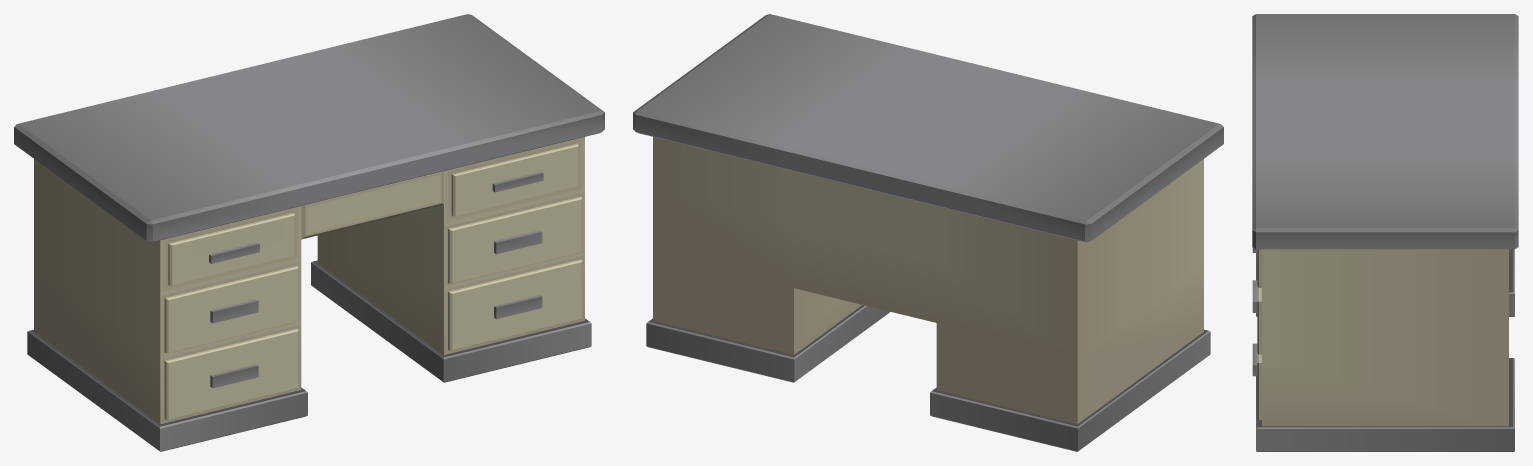
The model's file is Laboratorio.fbx_MesaLaboratorio.fbx.
3 renders of one model, left to right at view 1: azimuth 30°, elevation 25°; view 2: azimuth 150°, elevation 25°; view 3: azimuth 270°, elevation 25°, orthographic. The views are drawn at different scales.
Parts seen in each view (by area): view 1: MesaLaboratorio; view 2: MesaLaboratorio; view 3: MesaLaboratorio.
Boxes of the visible parts, x1,y1,x2,y2 form: MesaLaboratorio: [14, 14, 604, 451]; MesaLaboratorio: [633, 14, 1223, 451]; MesaLaboratorio: [1252, 14, 1518, 451].
Bounding box in the file's own units: 223 × 109 × 115.
